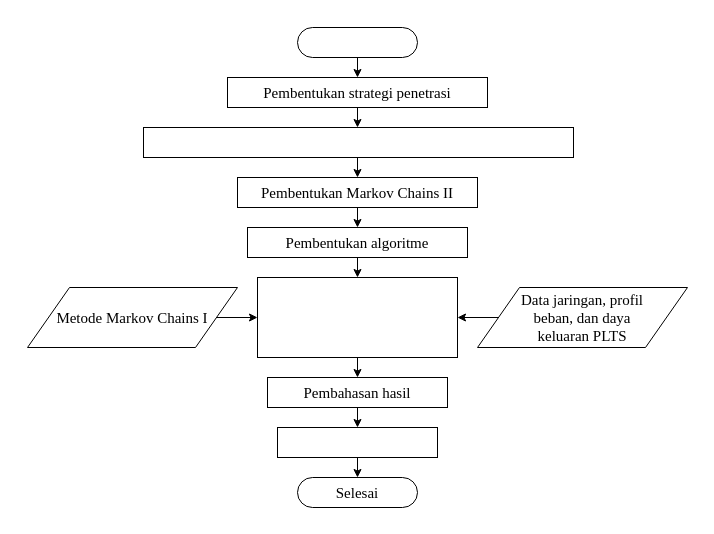
This 714x534 diagram has some shape labels left out. The shapes that lost their labels are listed below. From the top down, each one's centre as x and y in pixels, then its label:
At [357,42]: "Mulai".
At [358,142]: "Pembentukan model profil beban dan daya keluaran PLTS".
At [357,317]: "Studi kasus penentuan kapasitas hosting.".
At [357,442]: "Kesimpulan".
